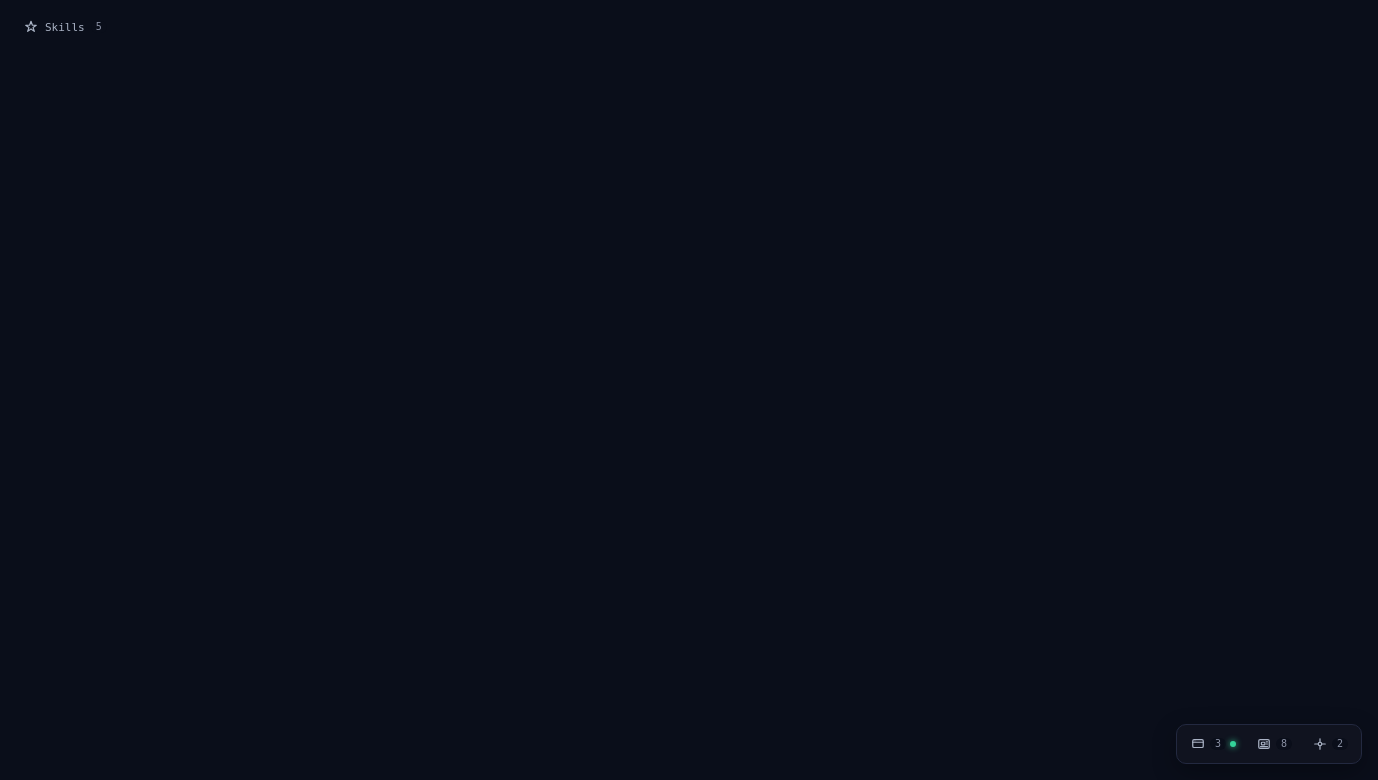
BottomRightDock › opening a different pill closes the previous panel (mutex)
Click the button named "Sessions" at point(1213, 744), box x1=1181 y1=729 x2=1245 y2=759
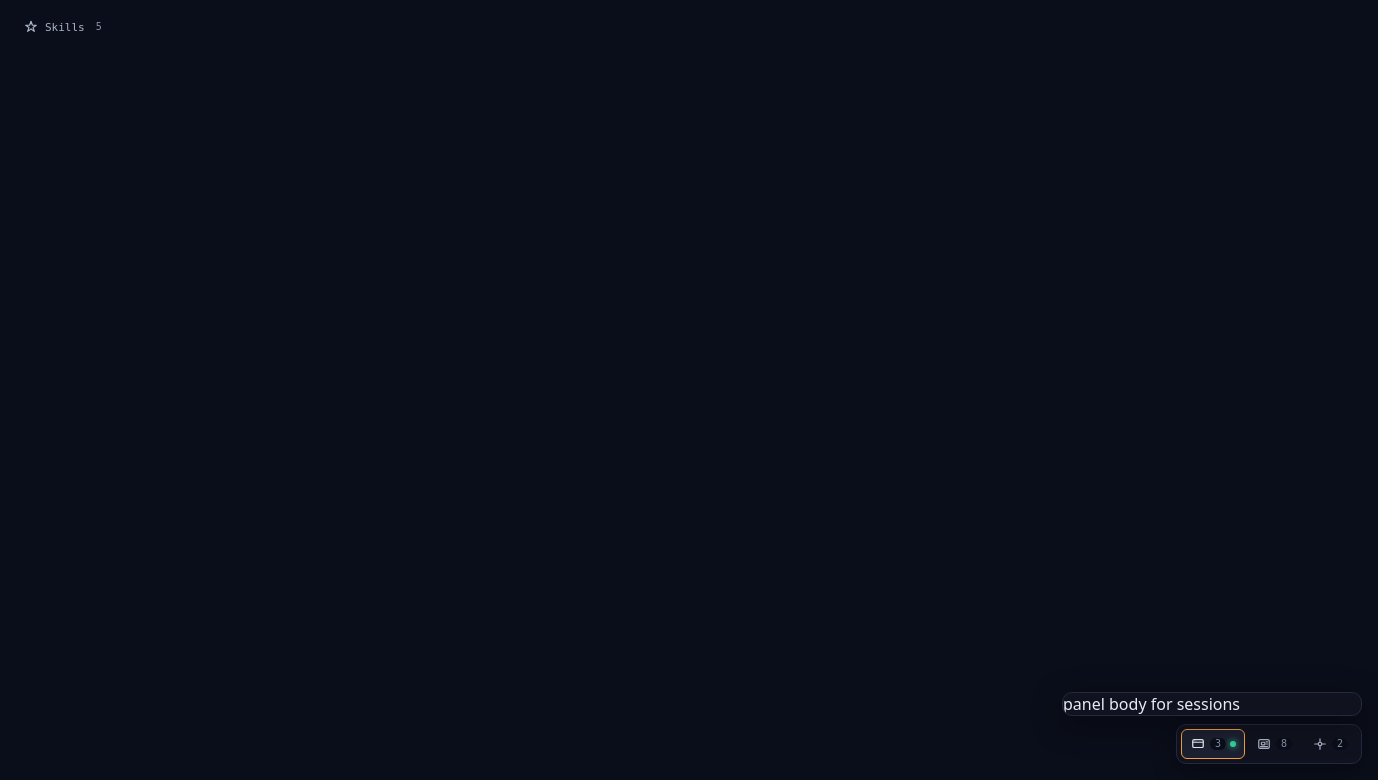
Expected: the text "panel body for sessions" is shown, x1=1063 y1=693 x2=1240 y2=715
Click the button named "MCP" at point(1330, 744), box x1=1303 y1=729 x2=1357 y2=759
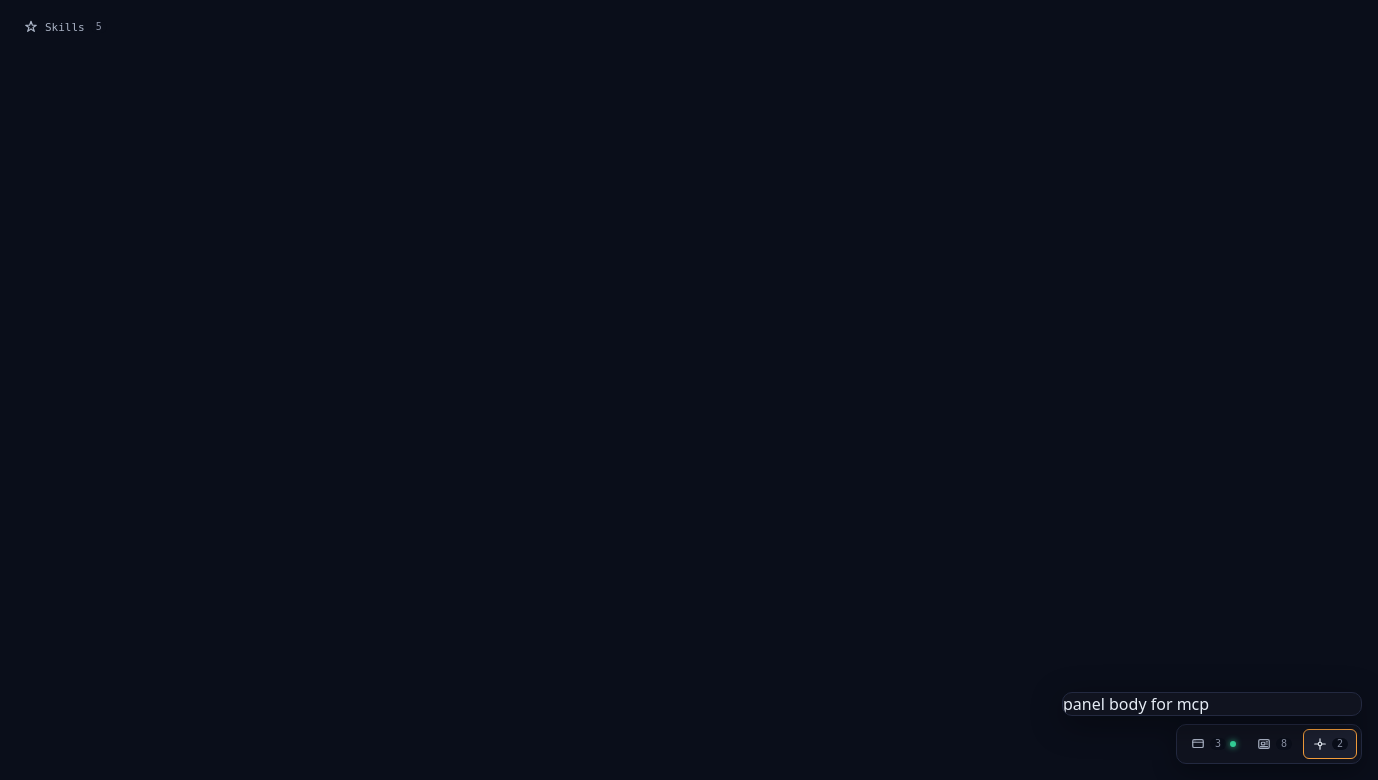
Expected: the text with test id "panel-sessions-body" is gone
Expected: the text "panel body for mcp" is shown, x1=1063 y1=693 x2=1209 y2=715
